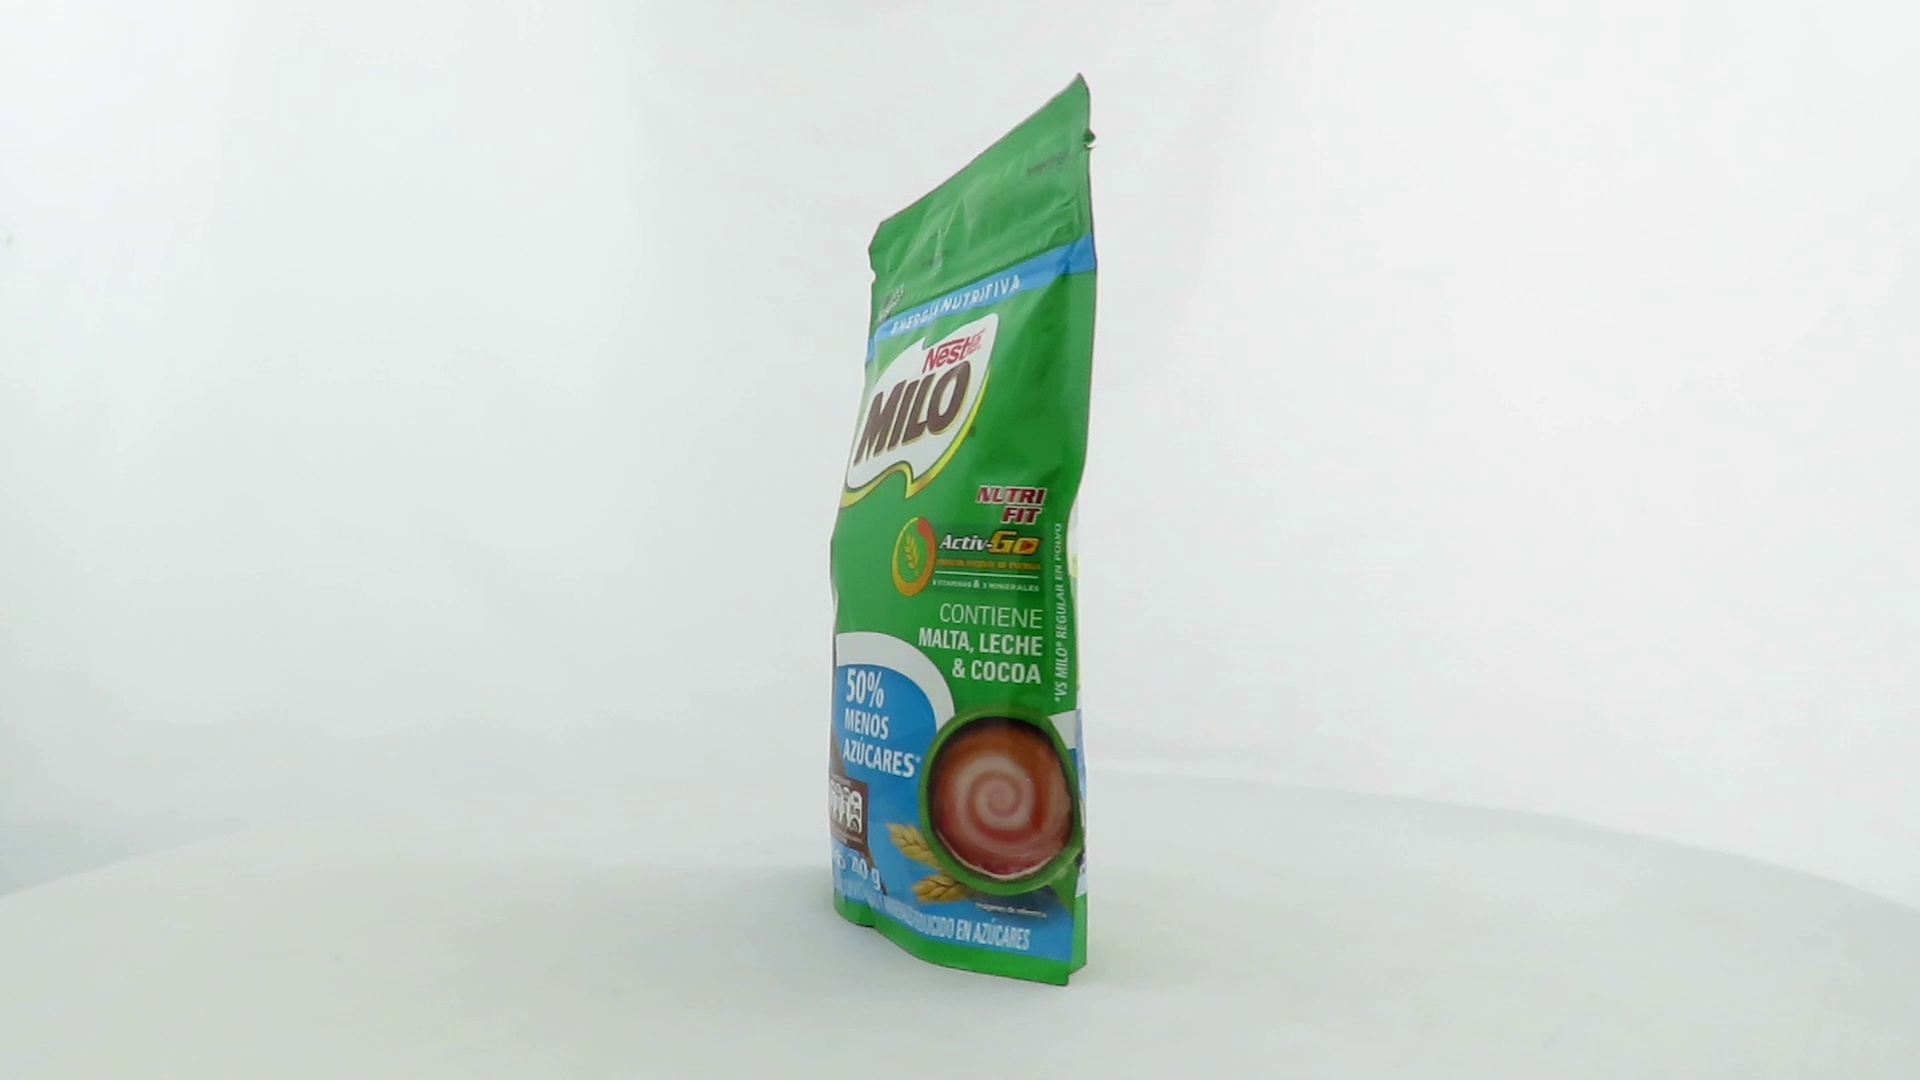COL0170205DYP20000: (822, 69, 1104, 993)
